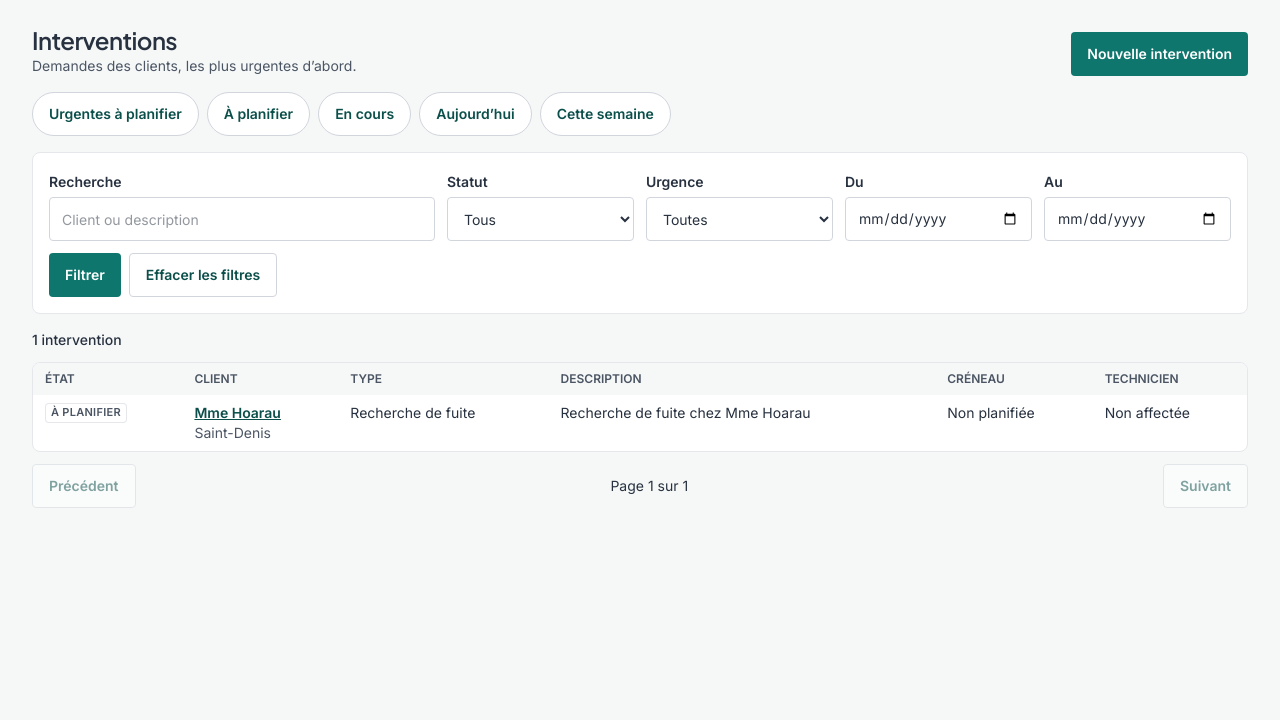
Test: liste des interventions (US15) › US15 : signale une recherche d’un seul caractère sans appeler l’API
Expected: the table is shown, [33, 363, 1247, 451]
Type "h" into the search field labelled "Recherche" at (242, 219), box [49, 197, 435, 241]
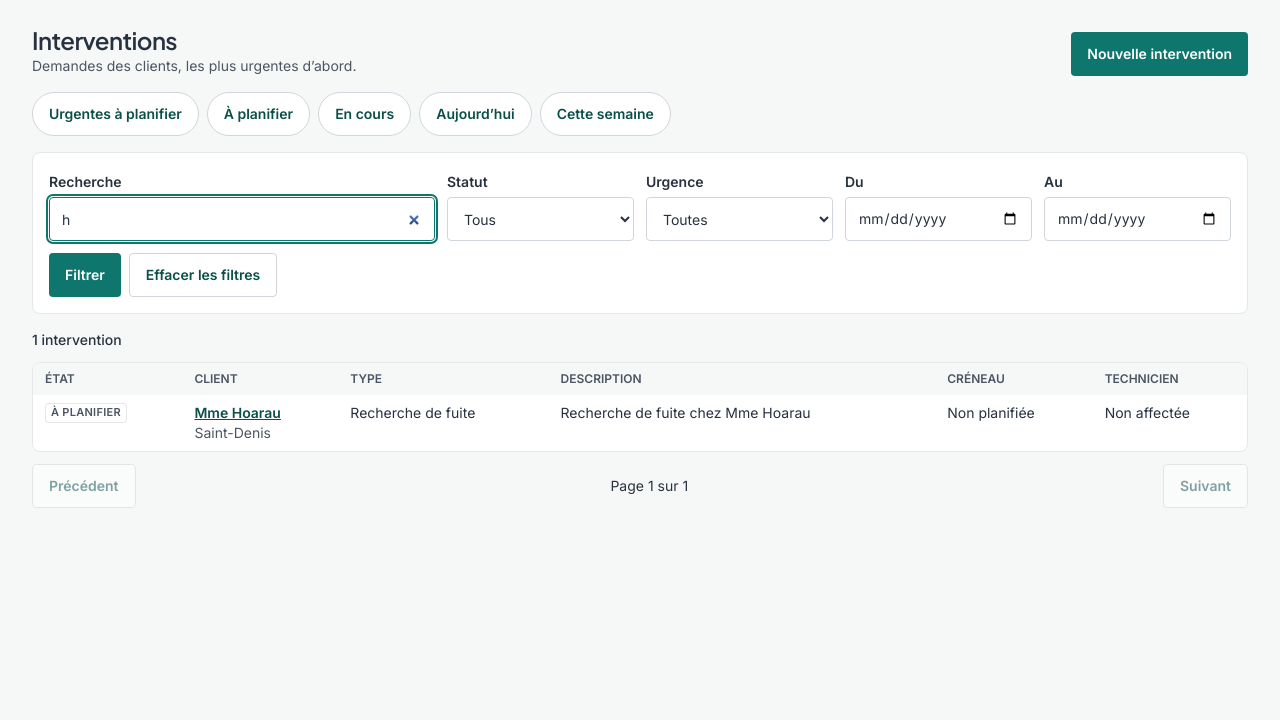
Click the button "Filtrer" at (85, 275), box [49, 253, 121, 297]
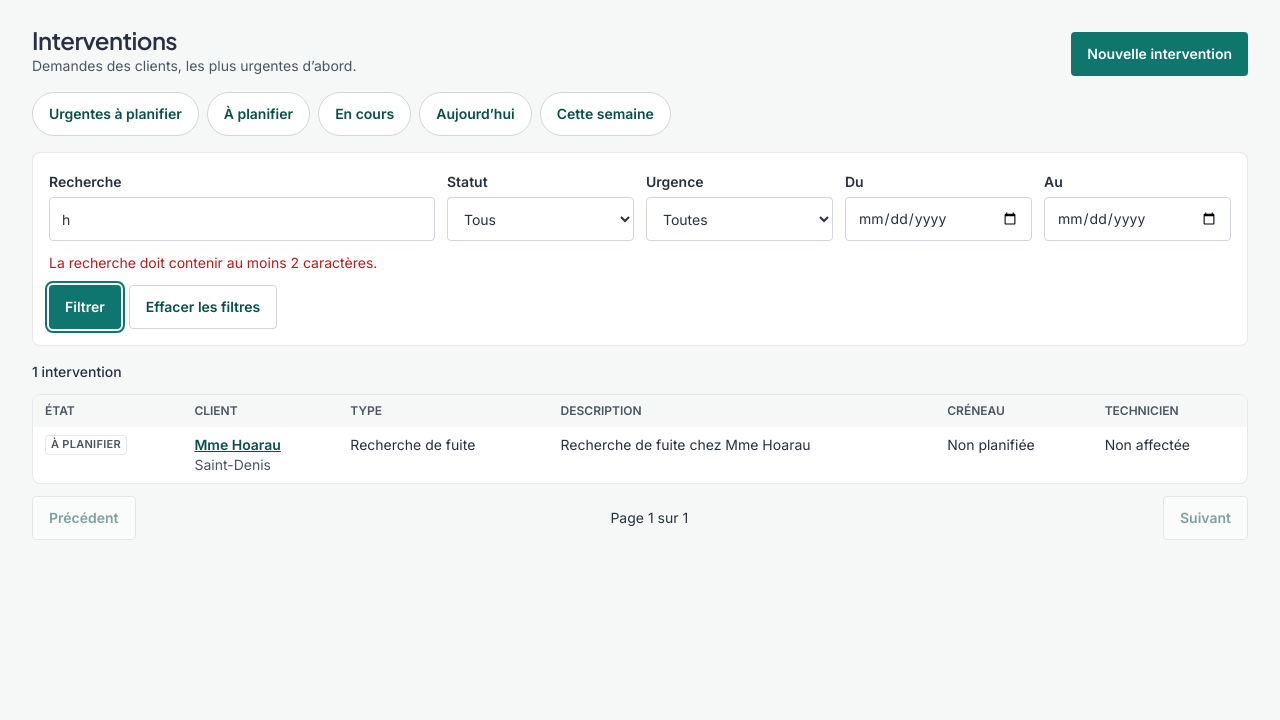
Now the message reads "La recherche doit contenir au moins 2 caractères.", box [49, 254, 377, 271]
